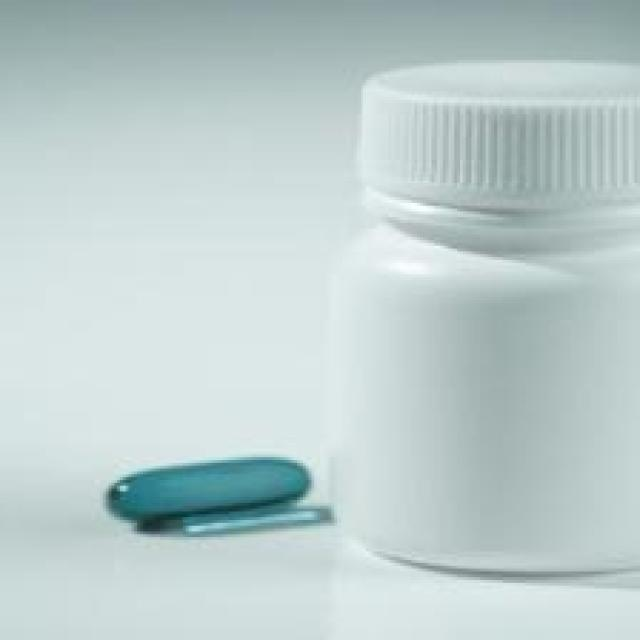Medicine: (92, 438, 346, 547)
